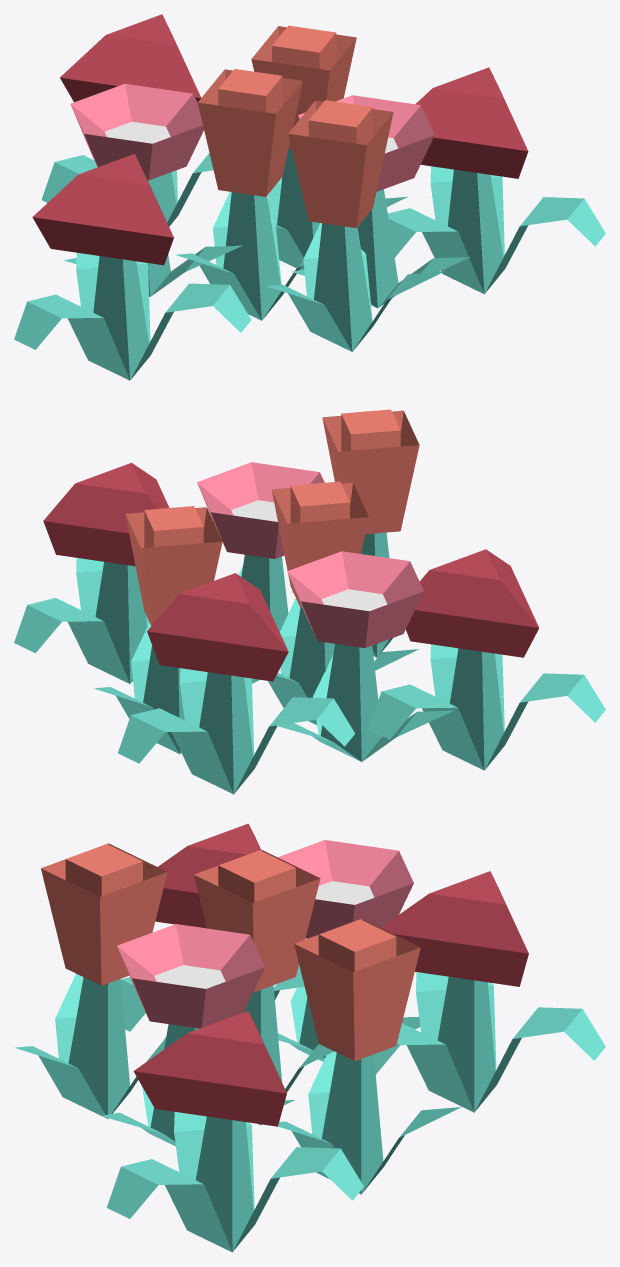
File: flowerRed02.fbx
3 views of the same model, one above another, from view 1: azimuth 30°, elevation 25°; view 2: azimuth 150°, elevation 25°; view 3: azimuth 270°, elevation 25° (orthographic). The views are drawn at different scales.
Visible parts, largest first — view 1: flower_purpleB3; view 2: flower_purpleB3; view 3: flower_purpleB3.
Part boxes in pixels (x1,y1,x2,y2): flower_purpleB3: [14, 14, 605, 380]; flower_purpleB3: [14, 409, 605, 794]; flower_purpleB3: [14, 823, 605, 1252].
Size of the model in its own units: 6.3 by 2.76 by 5.4.
